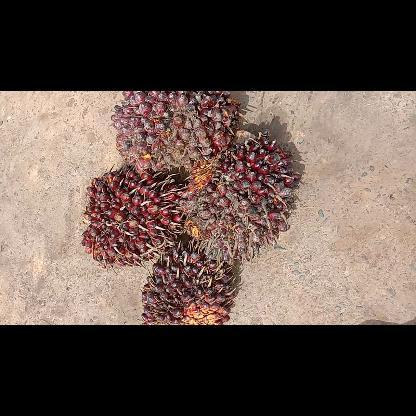Kurang masak: (180, 127, 302, 267), (80, 160, 184, 268)
TBS mentah: (109, 91, 241, 171), (138, 240, 238, 324)
